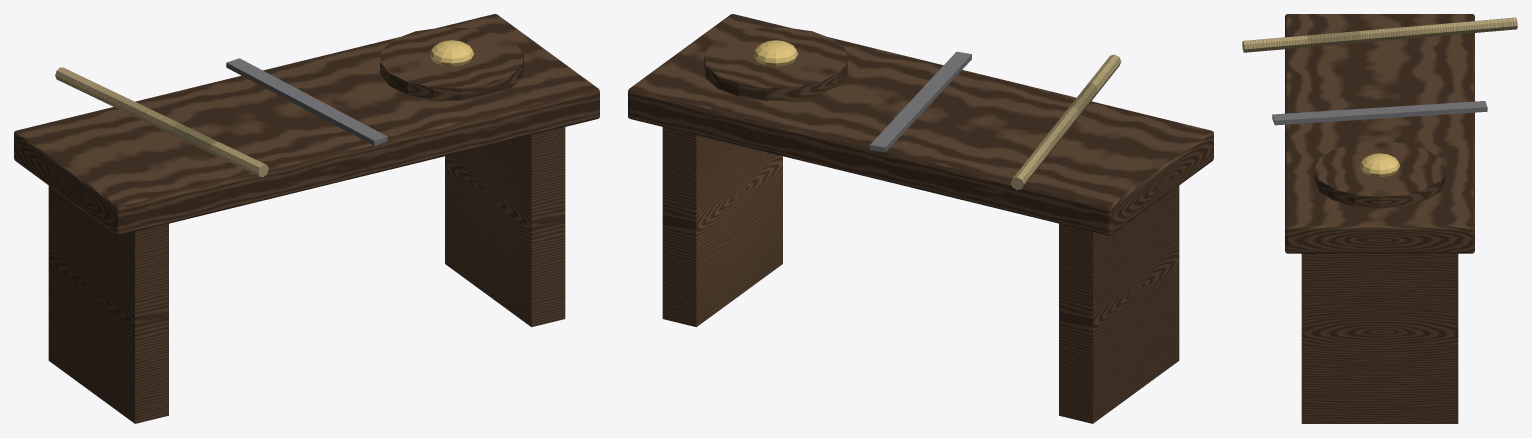
Rendered from kalari_equipment_counter.glb.
The picture shows the model from 3 angles, left to right: view 1: azimuth 30°, elevation 25°; view 2: azimuth 150°, elevation 25°; view 3: azimuth 270°, elevation 25°; orthographic projection. The views are drawn at different scales.
Visible parts, largest first — view 1: Bench_Top.001, Bench_Leg_-0.82, Bench_Leg_0.82, Display_Shield, Display_Bow, Display_Sword, Shield_Boss; view 2: Bench_Top.001, Bench_Leg_-0.82, Bench_Leg_0.82, Display_Shield, Display_Bow, Display_Sword, Shield_Boss; view 3: Bench_Top.001, Bench_Leg_0.82, Display_Shield, Display_Bow, Display_Sword, Shield_Boss.
Part boxes in pixels (left/top/right/bottom): Bench_Top.001: left=14, top=14, right=599, bottom=235; Bench_Leg_-0.82: left=48, top=186, right=168, bottom=423; Bench_Leg_0.82: left=445, top=127, right=565, bottom=327; Display_Shield: left=380, top=27, right=523, bottom=100; Display_Bow: left=55, top=67, right=268, bottom=177; Display_Sword: left=226, top=58, right=387, bottom=145; Shield_Boss: left=430, top=40, right=473, bottom=66; Bench_Top.001: left=628, top=14, right=1213, bottom=235; Bench_Leg_-0.82: left=1059, top=186, right=1179, bottom=423; Bench_Leg_0.82: left=662, top=127, right=782, bottom=327; Display_Shield: left=704, top=27, right=847, bottom=100; Display_Bow: left=1010, top=54, right=1121, bottom=189; Display_Sword: left=870, top=51, right=971, bottom=152; Shield_Boss: left=754, top=40, right=797, bottom=66; Bench_Top.001: left=1285, top=14, right=1474, bottom=253; Bench_Leg_0.82: left=1301, top=253, right=1458, bottom=423; Display_Shield: left=1314, top=141, right=1445, bottom=208; Display_Bow: left=1242, top=17, right=1517, bottom=52; Display_Sword: left=1272, top=101, right=1487, bottom=125; Shield_Boss: left=1360, top=153, right=1399, bottom=176.
Size of the model in its own units: 2 by 1.03 by 1.09.
3 materials, 1 textured.
